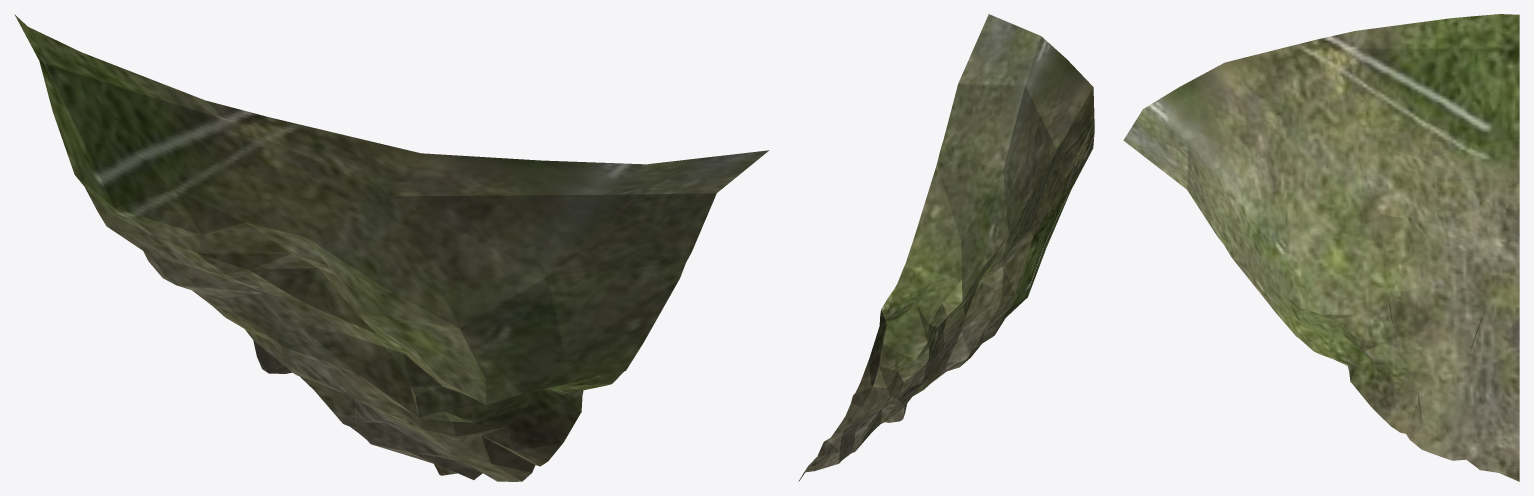
3 views of the same model, side by side, from view 1: azimuth 30°, elevation 25°; view 2: azimuth 150°, elevation 25°; view 3: azimuth 270°, elevation 25° (orthographic). The views are drawn at different scales.
Bounding box in the file's own units: 4.86 × 6.12 × 6.44.
1 material, 1 textured.
